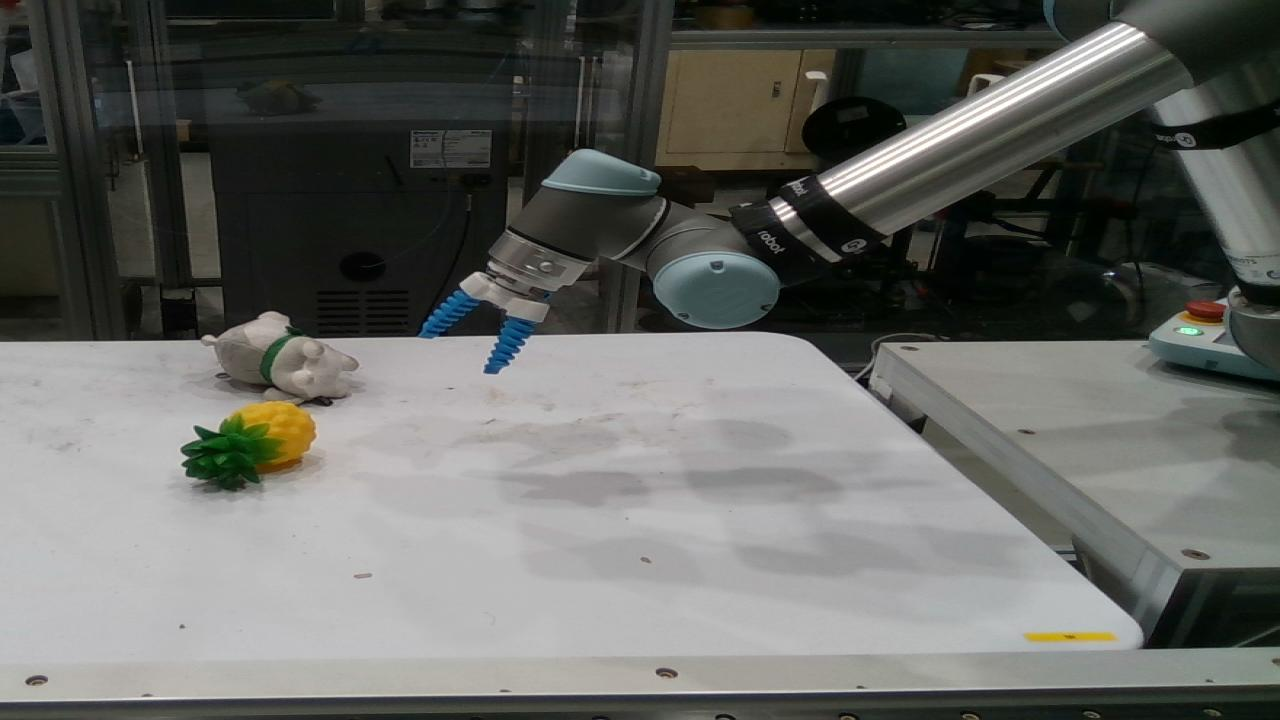UR5: (462, 0, 1272, 368)
gripper_left: (422, 290, 472, 336)
gripper_right: (490, 318, 532, 372)
target: (204, 312, 358, 405), (180, 403, 314, 489)
